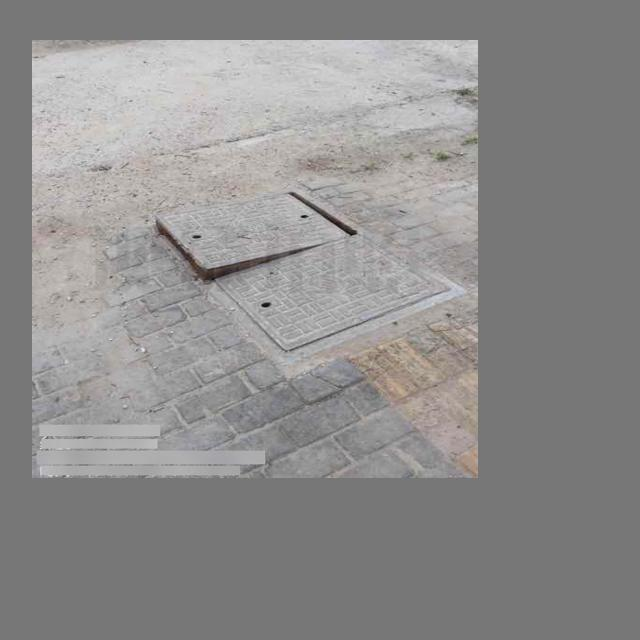uncovered: (148, 187, 464, 359)
